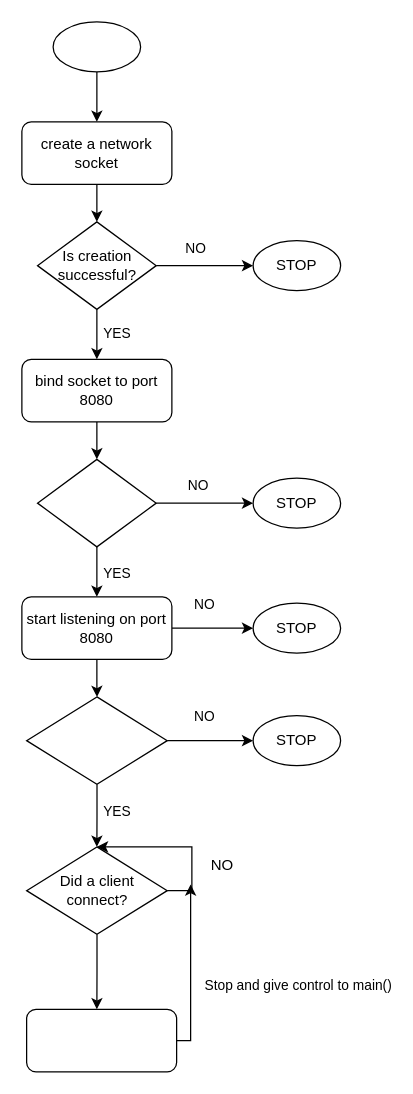
Image size: 413x1094. Some labels were removed from this diagram. Here are the shapes that lost their labels. From the top down, the centre of each, then its label:
the point at 96,46: START
the point at 96,502: Is bind succesful?
the point at 96,740: Started listening?
the point at 101,1040: handle_client()
